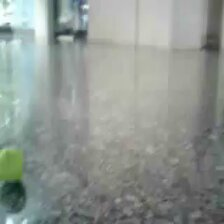tennis: (1, 149, 25, 182)
